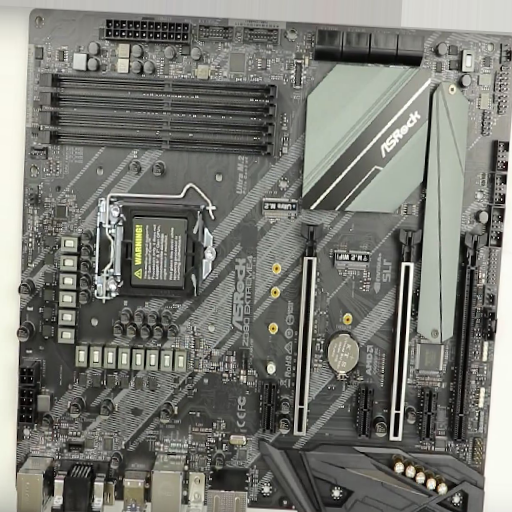CPU: (104, 200, 218, 301)
GPU: (291, 222, 328, 440), (452, 231, 488, 446), (387, 228, 423, 442)
MOTHERBOARD: (5, 7, 508, 512)
RAM: (35, 70, 286, 164)
SSD: (331, 248, 372, 278), (261, 197, 298, 223)
